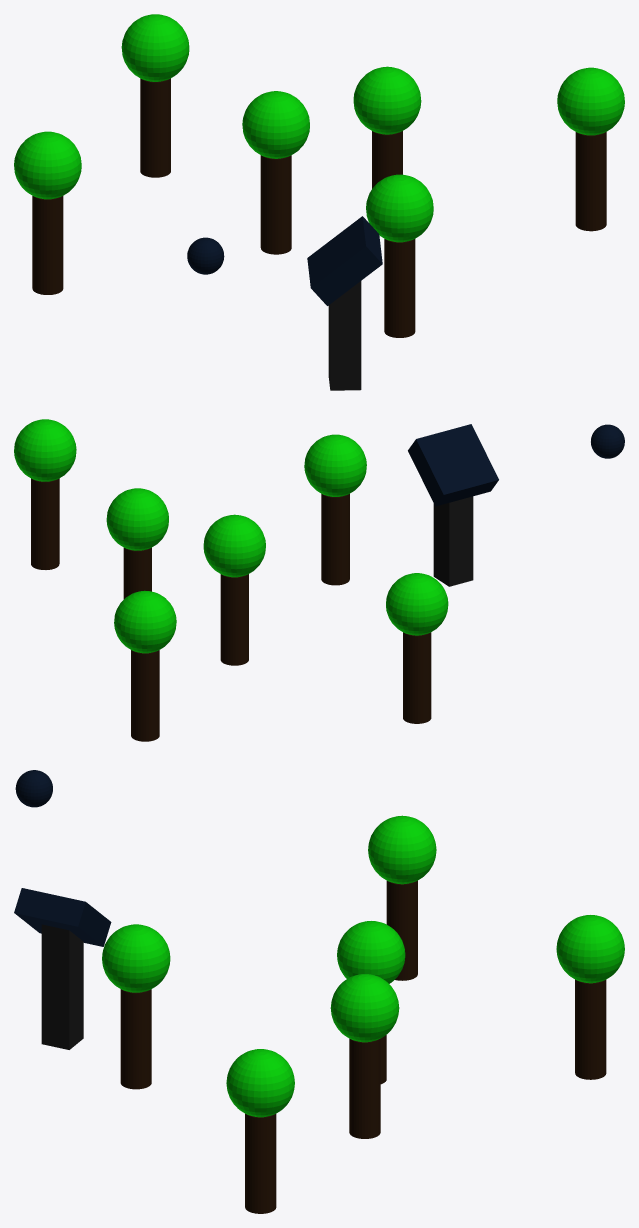
File: exercise20017.obj
3 views of the same model, one above another, from view 1: azimuth 30°, elevation 25°; view 2: azimuth 150°, elevation 25°; view 3: azimuth 270°, elevation 25° (orthographic). The views are drawn at different scales.
Parts seen in each view (by area): view 1: Cube.001, Sphere.003, Sphere.006, Sphere.002, Sphere.005, Sphere, Sphere.004, Cube, Cylinder.002, Cylinder.003, Cylinder.004, Cylinder.006 (+4 smaller); view 2: Cube.001, Cube, Sphere.002, Sphere.003, Sphere.004, Sphere.005, Sphere.006, Sphere, Cylinder.002, Cylinder.003, Cylinder.004, Cylinder.005 (+4 smaller); view 3: Cube, Sphere.003, Sphere.004, Sphere.005, Sphere.006, Sphere, Sphere.002, Cube.001, Cylinder.004, Cylinder.005, Cylinder.003, Cylinder (+3 smaller).
Boxes of the visible parts, x1=… form: Cube.001: x1=307, y1=216, x2=382, y2=305; Sphere.003: x1=557, y1=67, x2=624, y2=135; Sphere.006: x1=14, y1=131, x2=81, y2=199; Sphere.002: x1=242, y1=91, x2=309, y2=158; Sphere.005: x1=121, y1=14, x2=189, y2=81; Sphere: x1=353, y1=66, x2=421, y2=134; Sphere.004: x1=366, y1=174, x2=433, y2=242; Cube: x1=328, y1=281, x2=361, y2=390; Cylinder.002: x1=260, y1=155, x2=291, y2=254; Cylinder.003: x1=575, y1=132, x2=606, y2=231; Cylinder.004: x1=384, y1=239, x2=415, y2=337; Cylinder.006: x1=32, y1=196, x2=63, y2=294; Cube.001: x1=408, y1=424, x2=498, y2=506; Cube: x1=433, y1=496, x2=473, y2=586; Sphere.002: x1=203, y1=514, x2=265, y2=577; Sphere.003: x1=14, y1=419, x2=76, y2=481; Sphere.004: x1=304, y1=434, x2=366, y2=496; Sphere.005: x1=114, y1=590, x2=176, y2=653; Sphere.006: x1=386, y1=573, x2=448, y2=635; Sphere: x1=106, y1=488, x2=168, y2=550; Cylinder.002: x1=220, y1=574, x2=248, y2=665; Cylinder.003: x1=31, y1=478, x2=59, y2=569; Cylinder.004: x1=321, y1=494, x2=349, y2=585; Cylinder.005: x1=131, y1=650, x2=159, y2=741; Cube: x1=41, y1=924, x2=83, y2=1049; Sphere.003: x1=226, y1=1049, x2=294, y2=1117; Sphere.004: x1=102, y1=924, x2=170, y2=992; Sphere.005: x1=556, y1=915, x2=624, y2=983; Sphere.006: x1=368, y1=815, x2=436, y2=884; Sphere: x1=330, y1=974, x2=399, y2=1042; Sphere.002: x1=337, y1=921, x2=405, y2=983; Cube.001: x1=14, y1=888, x2=111, y2=946; Cylinder.004: x1=120, y1=989, x2=151, y2=1089; Cylinder.005: x1=575, y1=979, x2=606, y2=1079; Cylinder.003: x1=245, y1=1113, x2=276, y2=1213; Cylinder: x1=349, y1=1038, x2=380, y2=1138.
Size of what is drawn, in the model's own units: 40.53 by 13.71 by 39.13.
